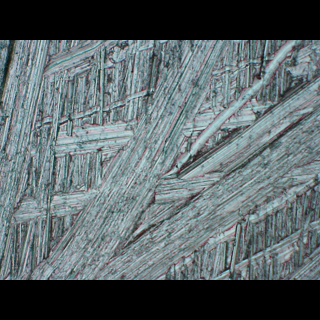d: (0, 40, 317, 278)
